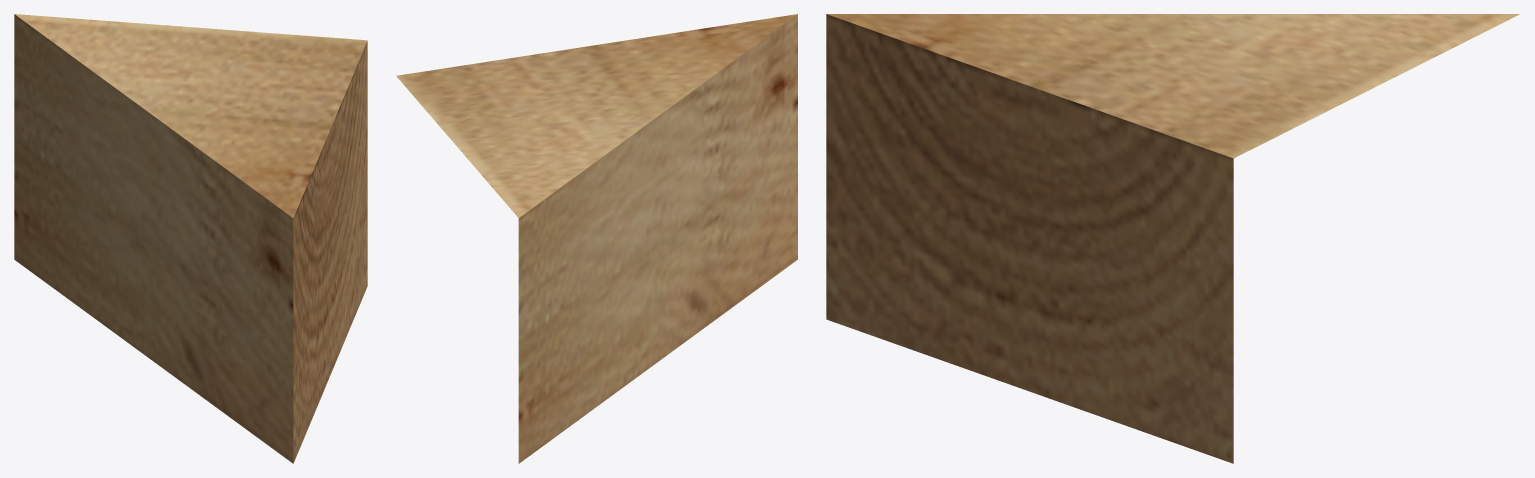
3 views of the same model, side by side, from view 1: azimuth 30°, elevation 25°; view 2: azimuth 150°, elevation 25°; view 3: azimuth 270°, elevation 25° (orthographic). The views are drawn at different scales.
Visible parts, largest first — view 1: Joint_0_Object_0; view 2: Joint_0_Object_0; view 3: Joint_0_Object_0.
Part boxes in pixels (left/top/right/bottom): Joint_0_Object_0: left=14, top=14, right=367, bottom=463; Joint_0_Object_0: left=396, top=14, right=797, bottom=463; Joint_0_Object_0: left=826, top=14, right=1519, bottom=463.
Bounding box in the file's own units: 436 × 430 × 886.
Materials: 1 (1 with a texture image).
